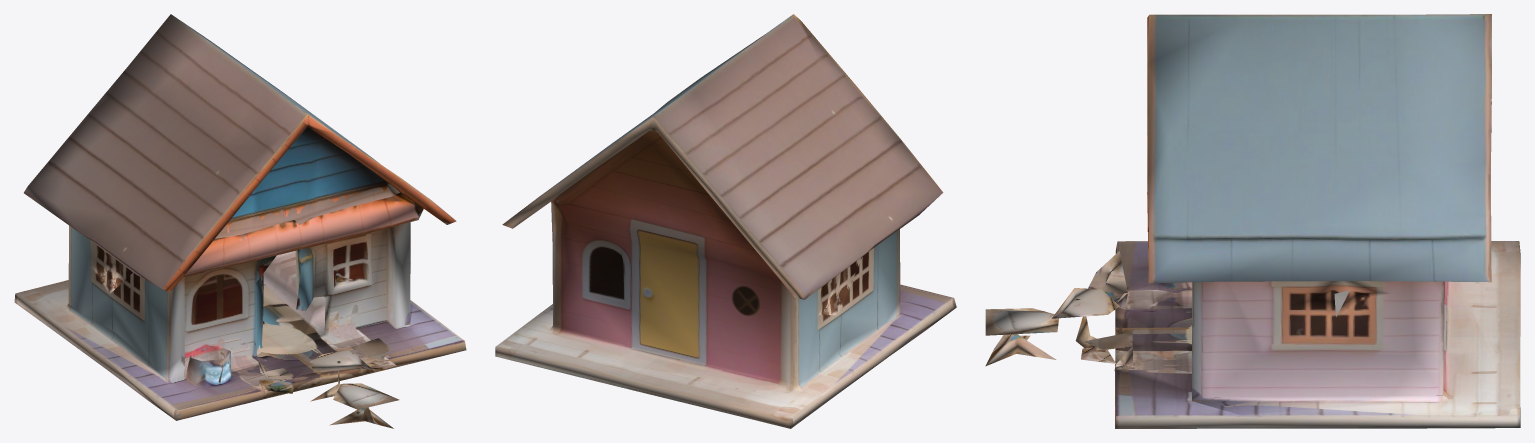
3 renders of one model, left to right at view 1: azimuth 30°, elevation 25°; view 2: azimuth 150°, elevation 25°; view 3: azimuth 270°, elevation 25°, orthographic. The views are drawn at different scales.
Parts seen in each view (by area): view 1: Mesh1.0; view 2: Mesh1.0; view 3: Mesh1.0.
Boxes of the visible parts, x1,y1,x2,y2 form: Mesh1.0: (14,14,466,428); Mesh1.0: (495,14,956,428); Mesh1.0: (985,14,1520,428).
Size of the model in its own units: 152 by 133 by 190.
Materials: 1 (1 with a texture image).
